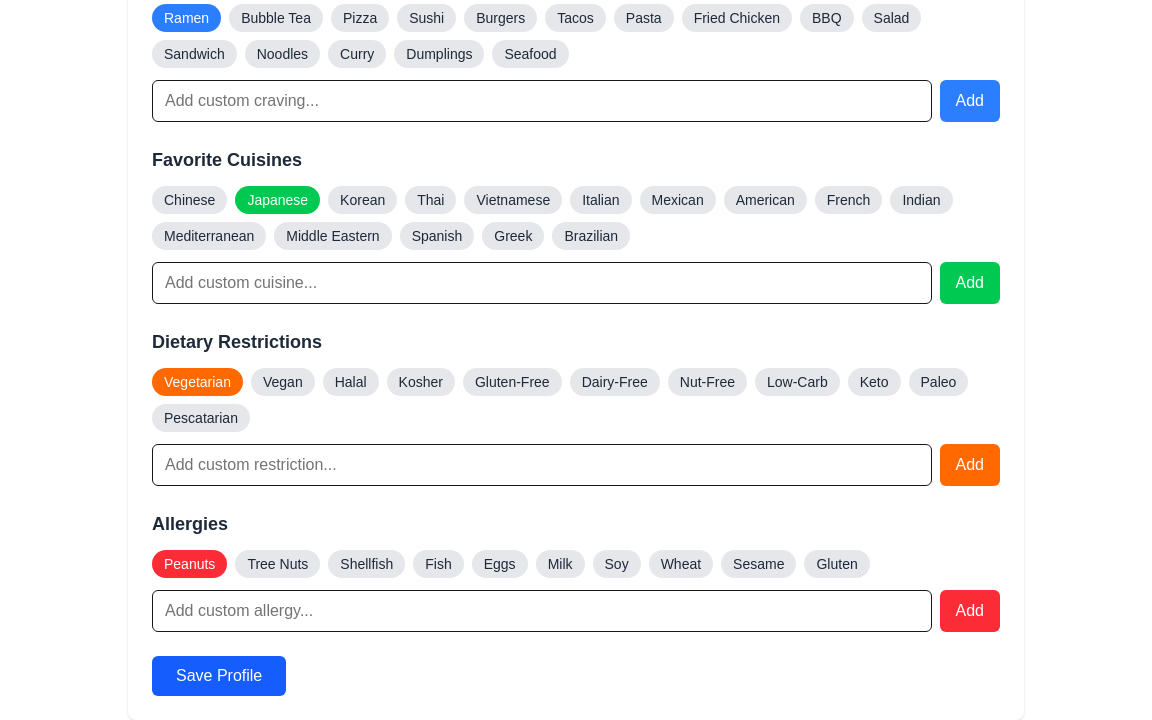
Test case: UserProfileForm › saves profile successfully
(page scrolled)
Click the button "Save Profile". click: [219, 676]
box: [152,656,286,696]
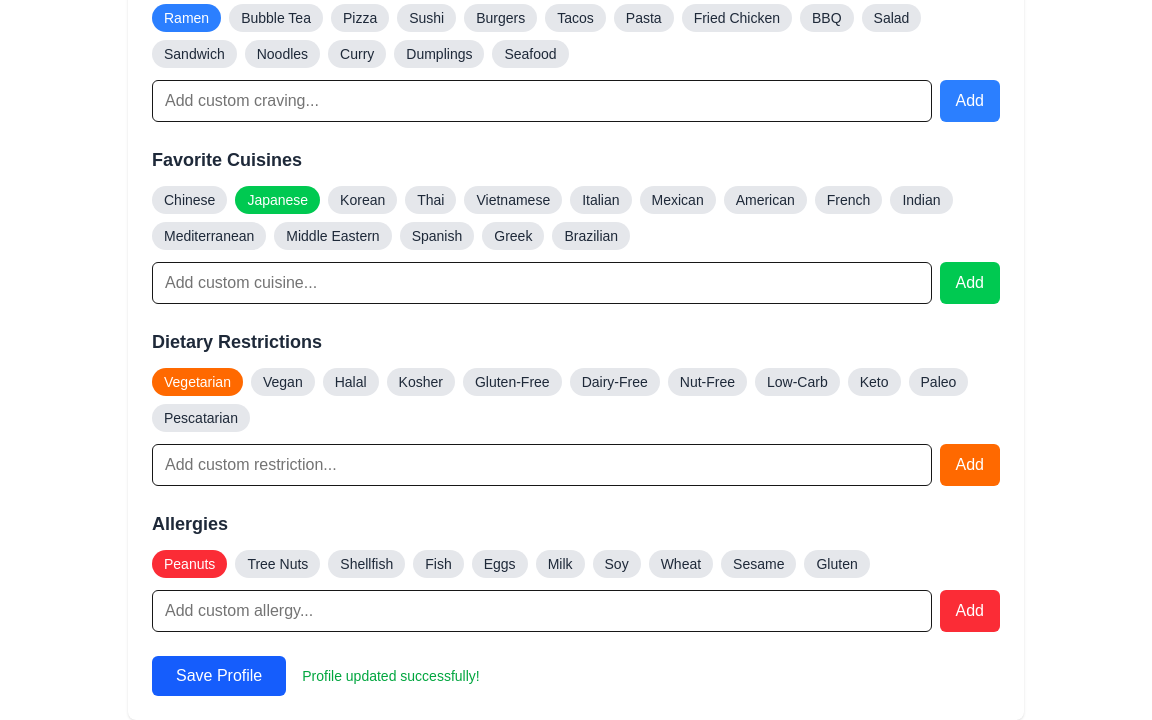
Now the text "Profile updated successfully!" is shown, box [302,666,480,686]
